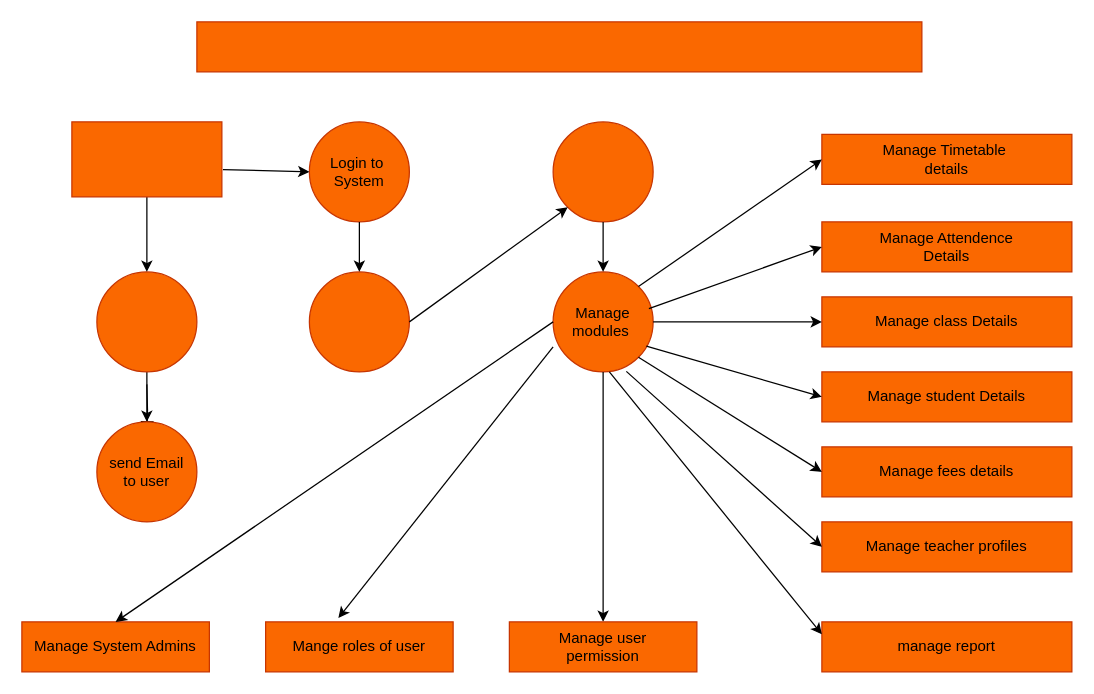
Image size: 1094x694. Some labels were removed from this diagram. The shapes that lost their labels are listed below. From the top down, each one's box as (x1, y1, x2, y2) in pixels, then its label:
(196, 21, 922, 72): Student Information System
(71, 121, 222, 197): Admin
(552, 121, 653, 222): Check roles of access
(96, 271, 197, 372): Forgot password
(308, 271, 409, 372): Check credentials
